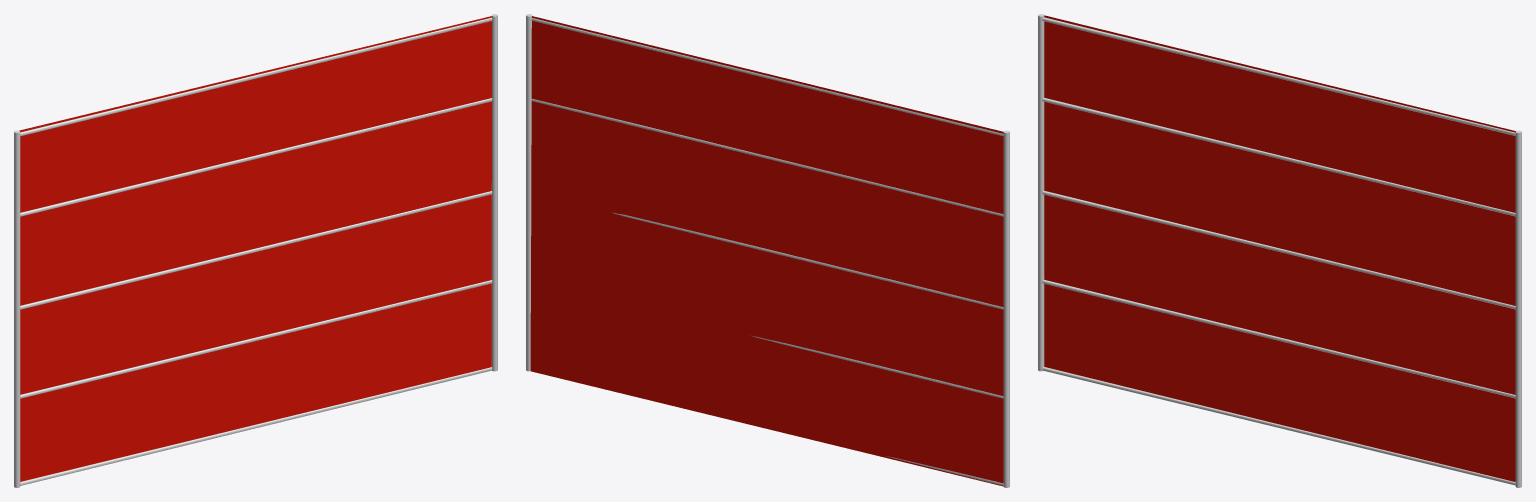
Rendered from Fence_4.fbx.
3 views of the same model, side by side, from view 1: azimuth 30°, elevation 25°; view 2: azimuth 150°, elevation 25°; view 3: azimuth 330°, elevation 25° (orthographic).
Visible parts, largest first — view 1: Fence; view 2: Fence; view 3: Fence.
Part boxes in pixels (box(x1,y1,x2,y2)): Fence: box(14, 14, 497, 487); Fence: box(526, 14, 1009, 487); Fence: box(1038, 14, 1521, 487).
Bounding box in the file's own units: 3215 × 2257 × 35.56.
